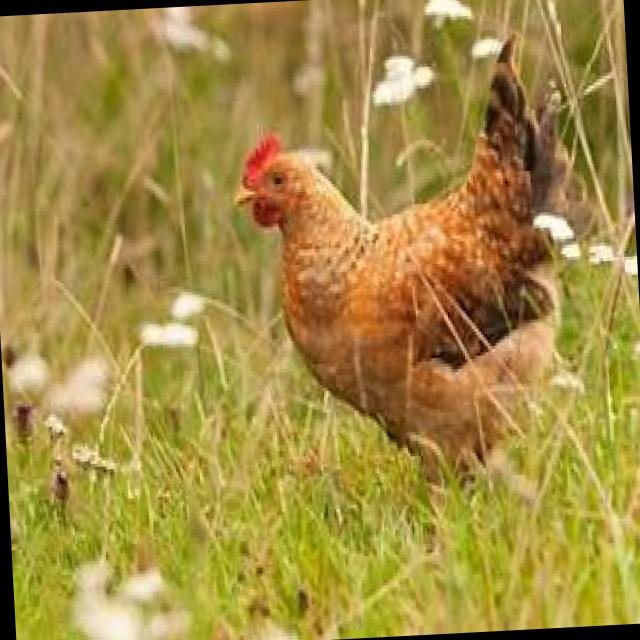chicken: (227, 24, 615, 544)
